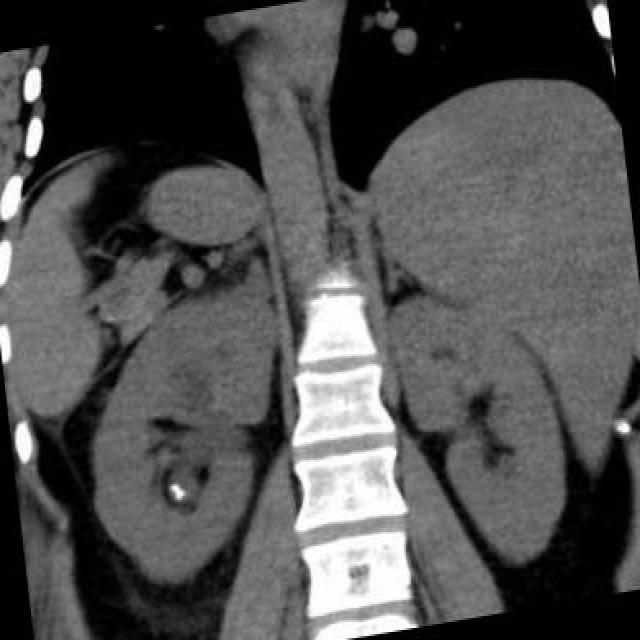Tas_Var: (165, 481, 180, 493), (172, 489, 186, 501)
